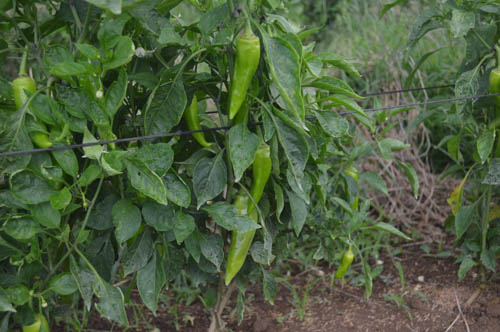ChiliPepper: (220, 193, 256, 285), (227, 37, 259, 124), (17, 79, 50, 146), (250, 144, 276, 211), (186, 99, 213, 150), (342, 165, 361, 213), (335, 250, 356, 282)
